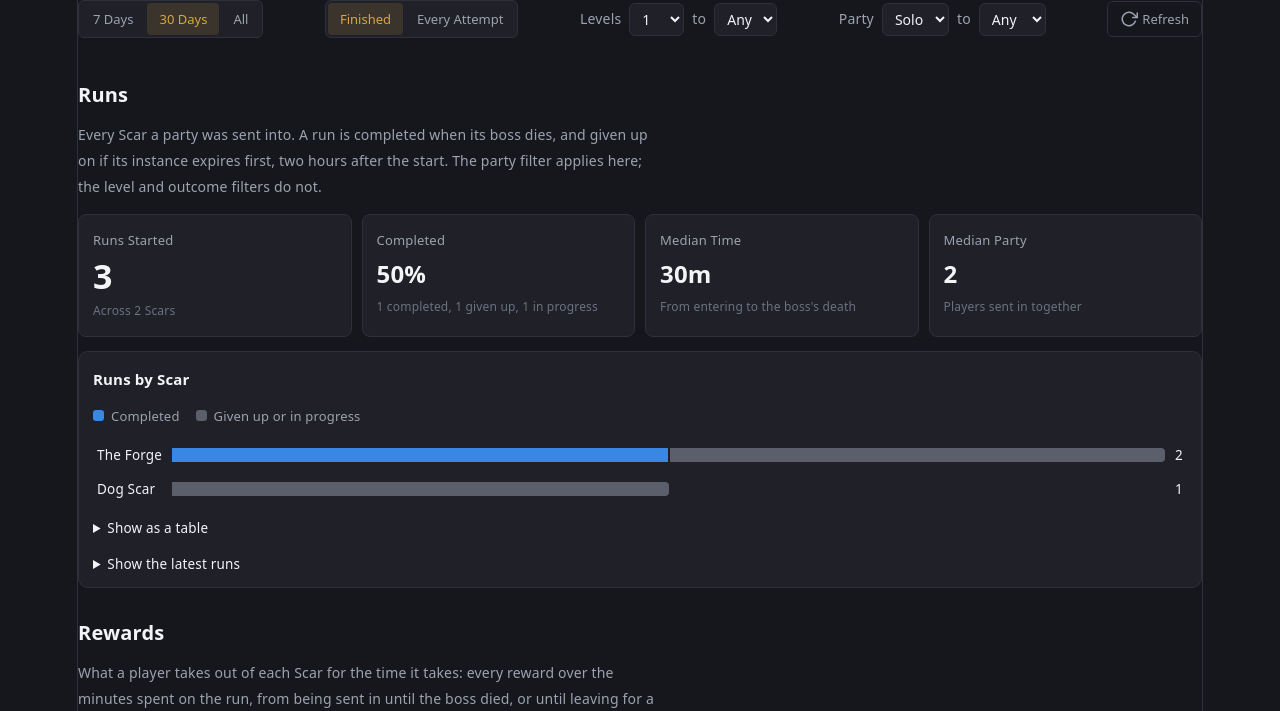
Test: MetricsPage › gives rewards per player-minute, for finished runs by default
Click the button "Every Attempt".
click(460, 19)  # box [405, 3, 515, 35]
(page scrolled)
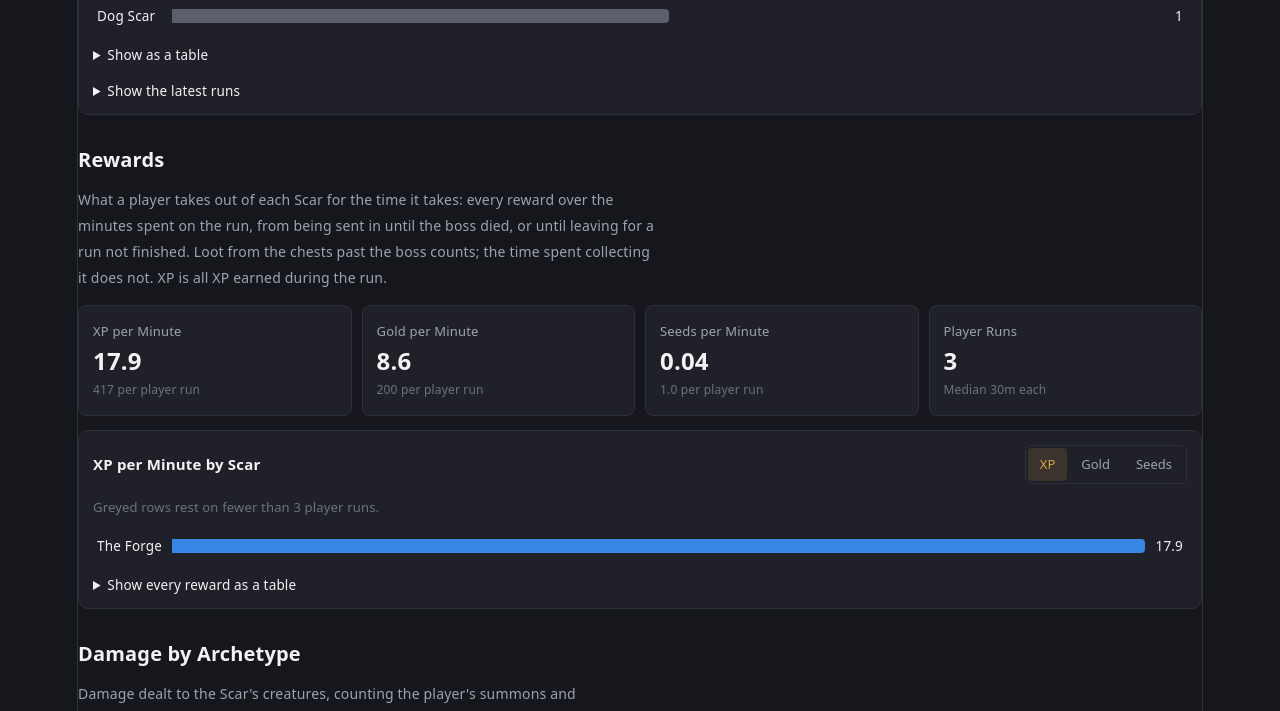
Expected: the text "17.9" next to "8.6" is shown, [93, 344, 142, 377]
